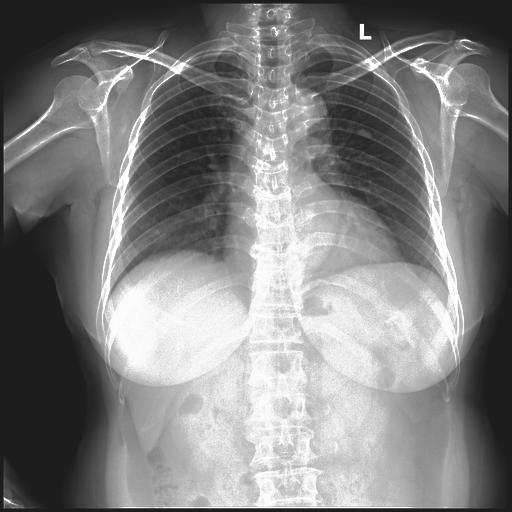Consolidation: (275, 89, 335, 160)
Nodule/Mass: (220, 214, 408, 270)
Other lesion: (358, 128, 372, 137)
Pleural thickening: (358, 128, 372, 137)
